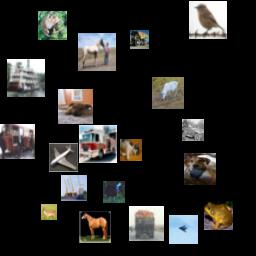airplane: (49, 143, 78, 172), (169, 215, 198, 244)
automobile: (182, 119, 204, 141)
bird: (189, 1, 227, 39), (103, 181, 125, 203)
cat: (120, 139, 142, 161)
deer: (152, 77, 184, 109), (41, 204, 57, 220)
dog: (58, 89, 93, 124), (184, 153, 216, 185)
frog: (38, 11, 67, 40), (204, 201, 233, 230)
ship: (7, 59, 45, 97), (61, 175, 87, 201)
truck: (79, 125, 117, 163), (0, 124, 35, 159), (129, 206, 164, 241), (130, 30, 149, 49)
